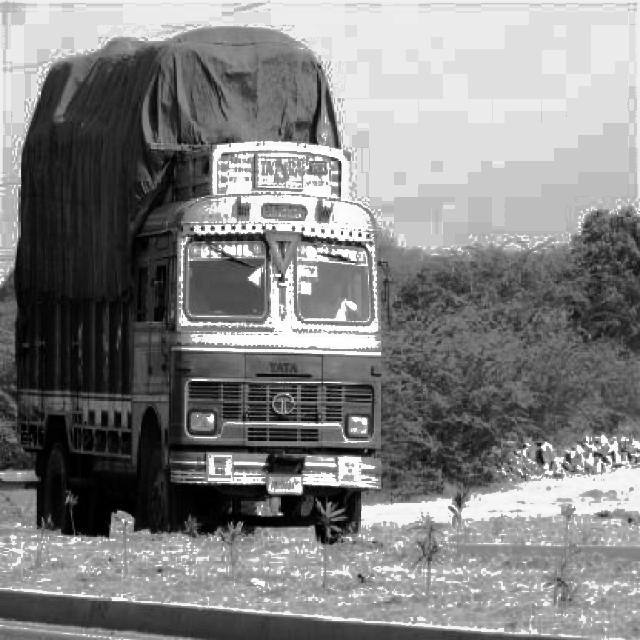HCV: (52, 48, 372, 523)
